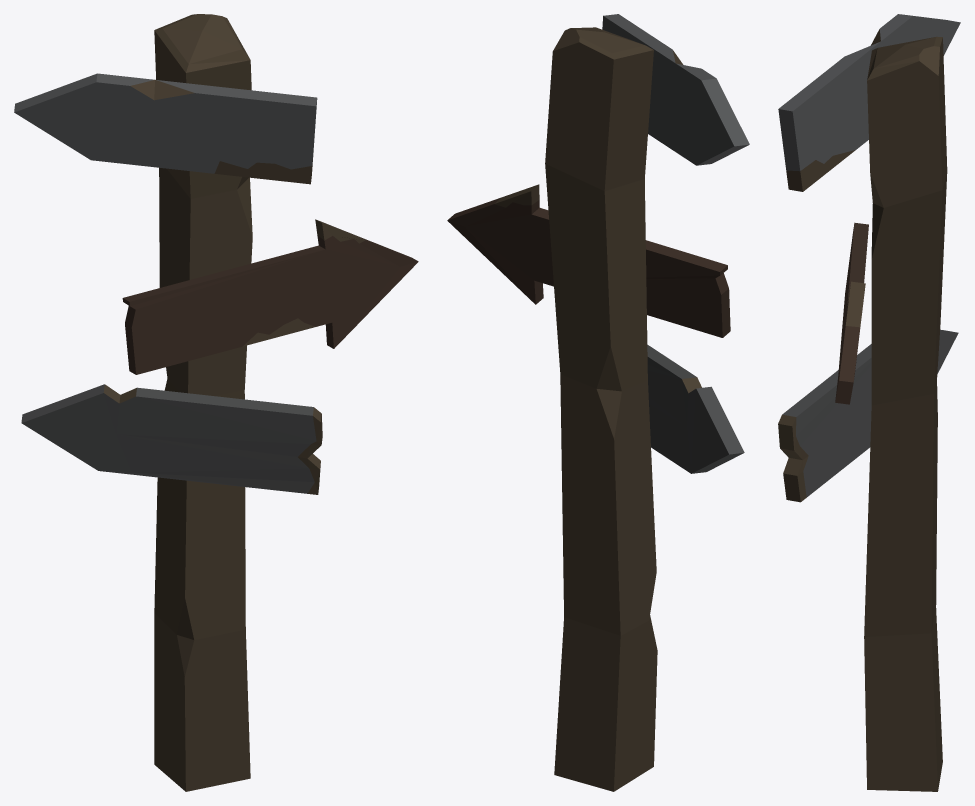
The model's file is source.gltf.
The picture shows the model from 3 angles, left to right: view 1: azimuth 30°, elevation 25°; view 2: azimuth 150°, elevation 25°; view 3: azimuth 270°, elevation 25°; orthographic projection.
Parts seen in each view (by area): view 1: SM_Prop_RoadSign_01; view 2: SM_Prop_RoadSign_01; view 3: SM_Prop_RoadSign_01.
Part boxes in pixels (box(x1,y1,x2,y2)): SM_Prop_RoadSign_01: box(14, 14, 418, 791); SM_Prop_RoadSign_01: box(447, 14, 749, 791); SM_Prop_RoadSign_01: box(778, 14, 960, 791).
Bounding box in the file's own units: 1.16 × 2.35 × 0.5299.
1 material, 1 textured.
